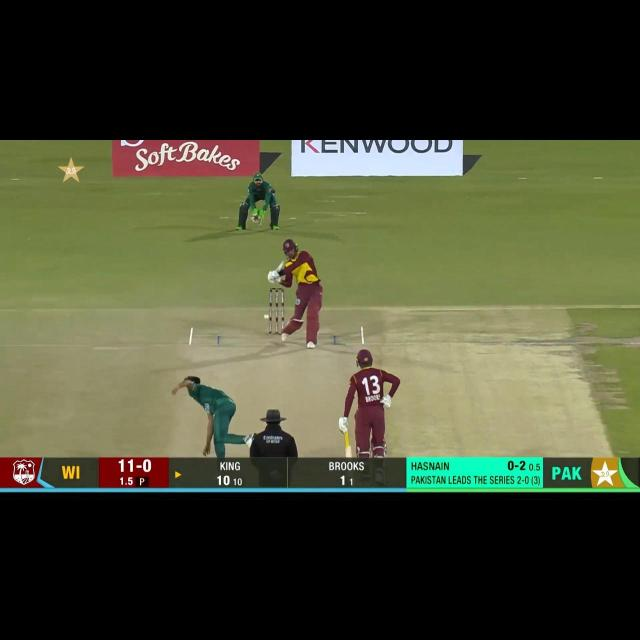bat: (344, 434, 353, 459), (274, 258, 287, 274)
toe: (278, 258, 286, 265)
